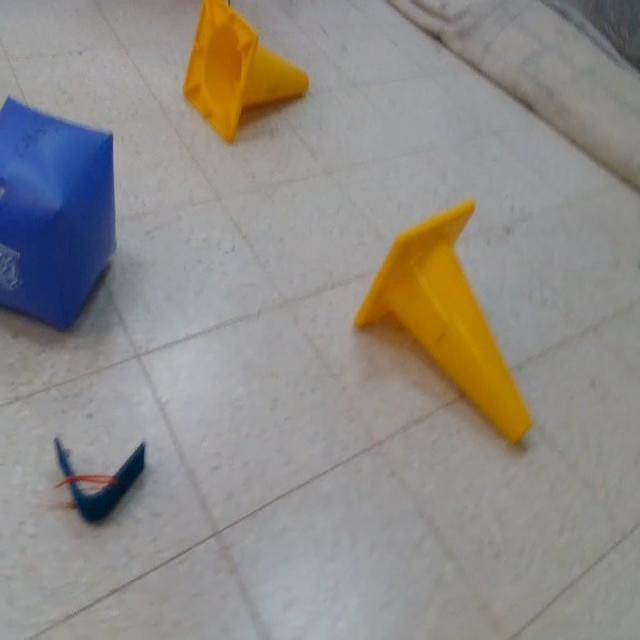cone: (355, 196, 530, 448), (184, 0, 308, 146)
cube: (0, 92, 118, 335)
